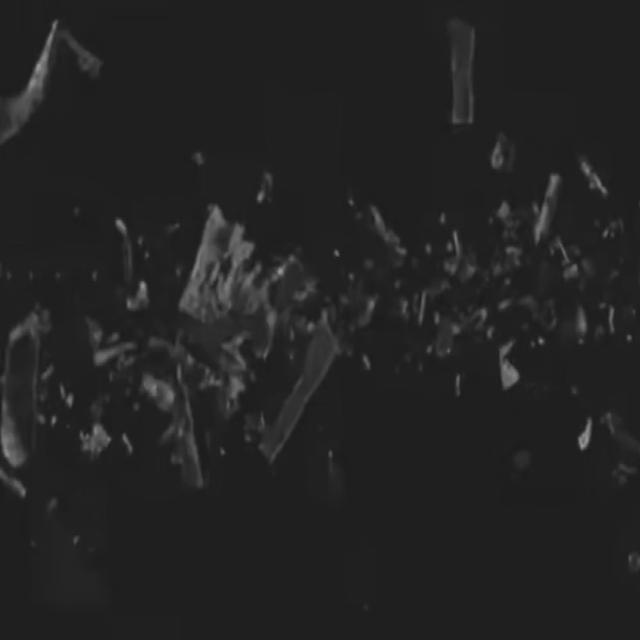large_debris: (0, 294, 57, 510), (10, 17, 108, 135), (263, 335, 342, 471), (186, 196, 266, 326), (135, 372, 206, 494), (441, 23, 493, 147), (107, 199, 154, 324), (429, 300, 473, 412), (366, 205, 417, 278), (531, 156, 566, 256), (562, 296, 602, 383), (496, 329, 530, 427), (221, 336, 255, 432), (87, 329, 141, 383), (75, 415, 120, 472), (579, 149, 614, 219), (569, 411, 599, 473)
